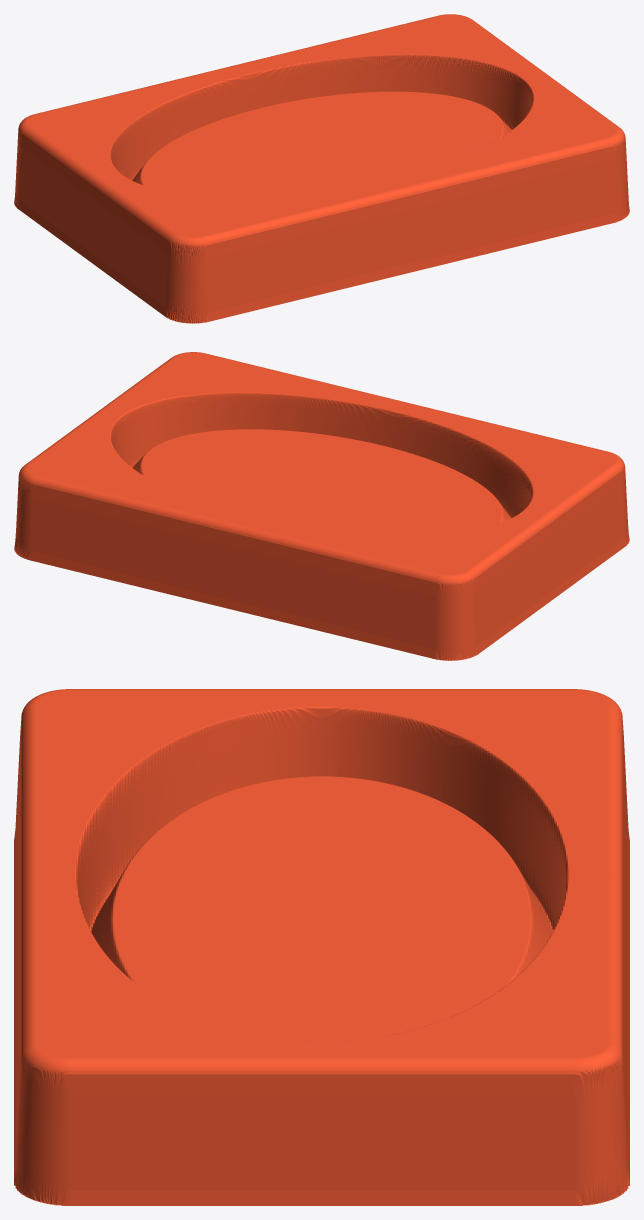
File: mold.glb
3 renders of one model, top to bottom at view 1: azimuth 30°, elevation 25°; view 2: azimuth 150°, elevation 25°; view 3: azimuth 270°, elevation 25°, orthographic. The views are drawn at different scales.
Visible parts, largest first — view 1: geometry_0; view 2: geometry_0; view 3: geometry_0.
Boxes of the visible parts, <box> form: geometry_0: <box>14,14,629,323</box>; geometry_0: <box>14,352,629,660</box>; geometry_0: <box>14,689,629,1205</box>.
Size of the model in its own units: 0.1473 by 0.0247 by 0.0993.
